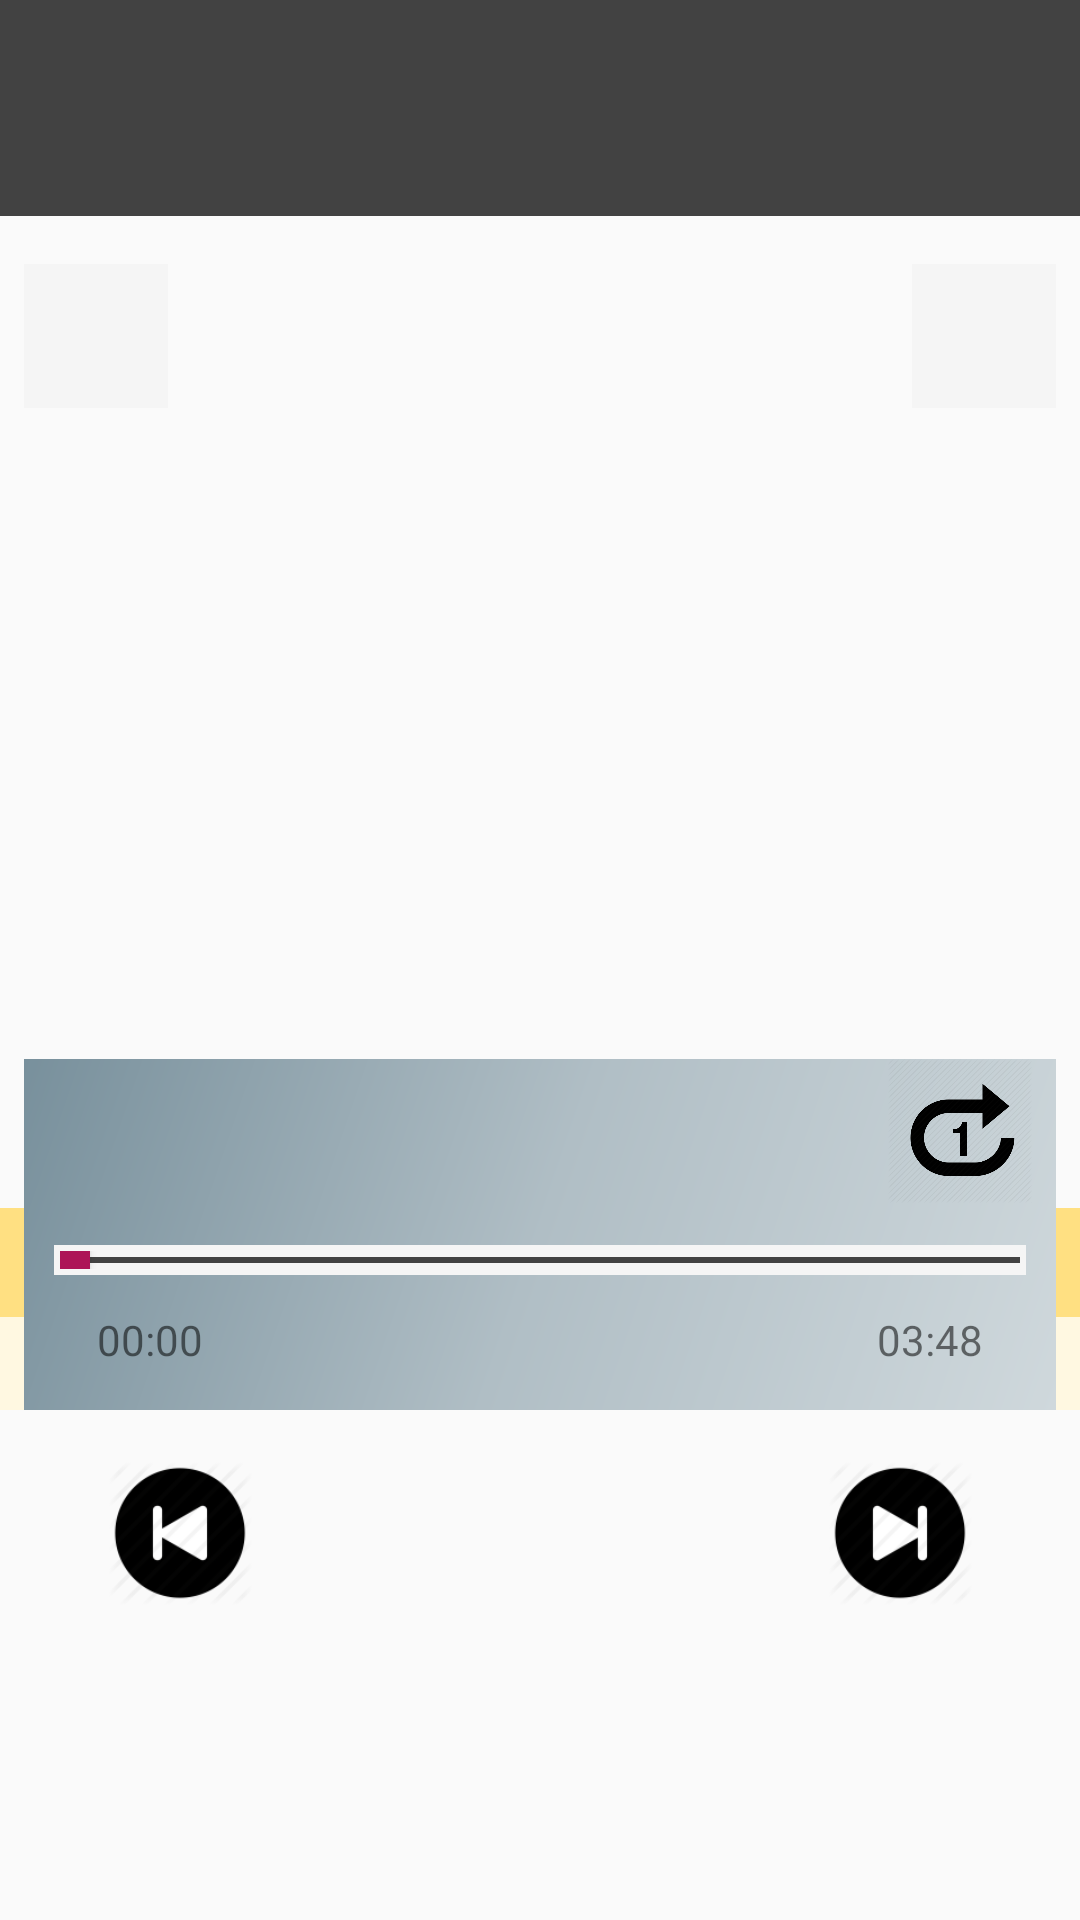

Screen size 1080×1920. Icon name, then its box in pixels as [x1, y1, x2, y2]:
repeat: [910, 1084, 1015, 1176]
skip back: [114, 1467, 246, 1599]
skip forward: [834, 1467, 966, 1599]
